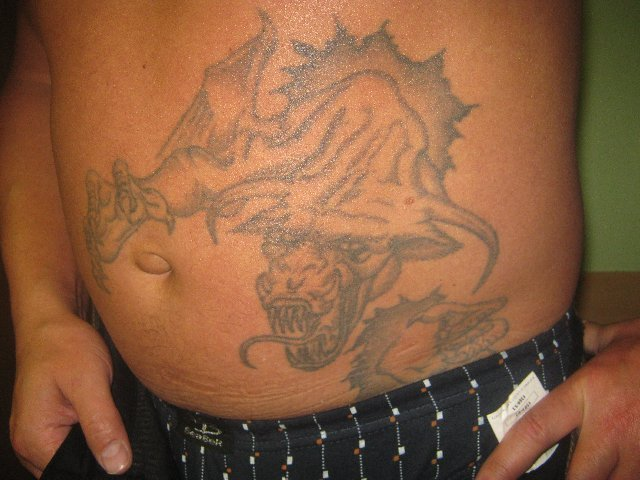tatu6_drakon: (56, 5, 562, 394)
